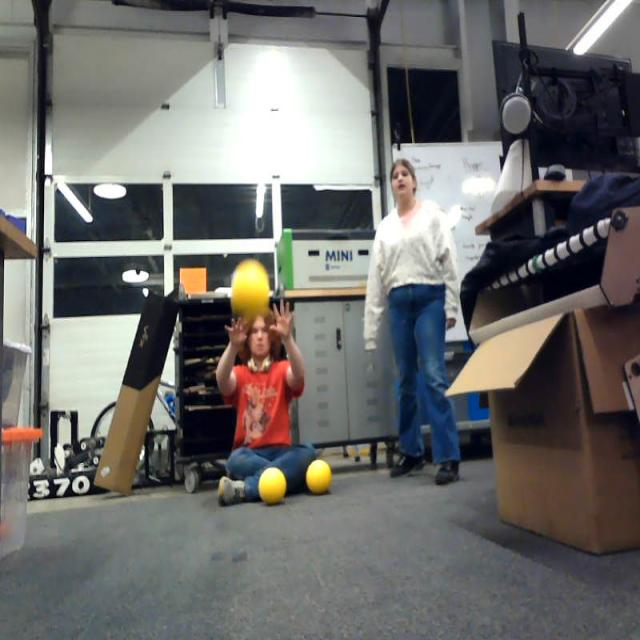Fuel: (232, 265, 268, 317), (259, 468, 286, 503), (307, 460, 331, 493)
